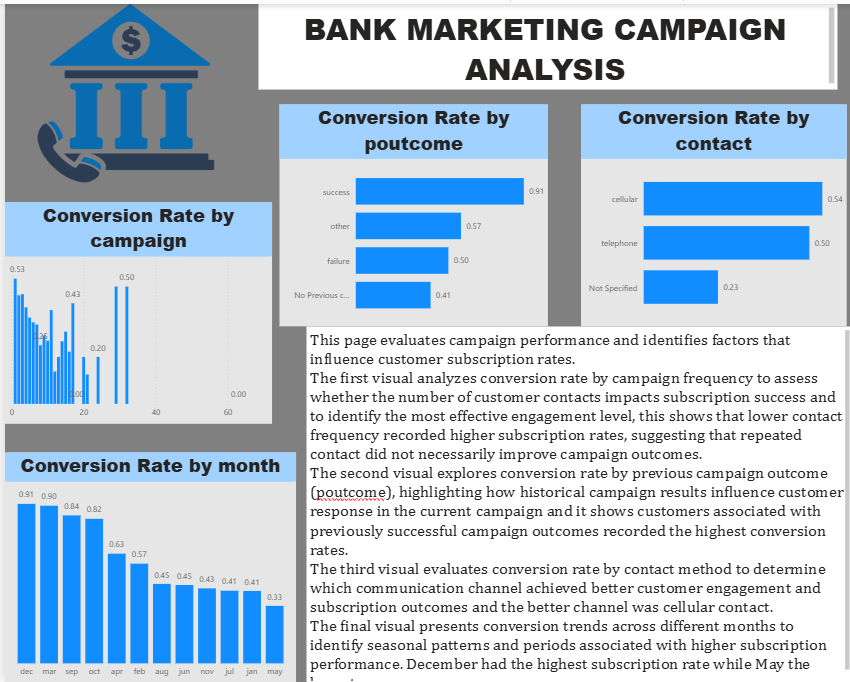

The page's visual inventory and layout, read from the dashboard file:
{"tool":"powerbi","page":{"name":"CAMPAIGN PERFORMANCE","canvas":[1250,1000],"ordinal":2},"visuals":[{"type":"textbox","box":[373.4,0,852.7,125.9],"z":0},{"type":"image","box":[0,0,355.7,262.9],"z":1000},{"type":"clusteredColumnChart","fields":{"Category":["bank_marketing_cleaned.campaign"],"Y":["bank_marketing_cleaned.Conversion Rate"]},"box":[0,291.6,393.2,327],"z":2000},{"type":"clusteredBarChart","fields":{"Category":["bank_marketing_cleaned.poutcome"],"Y":["bank_marketing_cleaned.Conversion Rate"]},"box":[404.3,148,395.4,327],"z":3000},{"type":"clusteredBarChart","fields":{"Category":["bank_marketing_cleaned.contact"],"Y":["bank_marketing_cleaned.Conversion Rate"]},"box":[848.3,148,391,327],"z":4000},{"type":"clusteredColumnChart","fields":{"Y":["bank_marketing_cleaned.Conversion Rate"],"Category":["bank_marketing_cleaned.month"]},"box":[0,660.5,428.6,340.2],"z":5000},{"type":"textbox","box":[444,475,806.4,525.8],"z":5001}]}

Visuals, with their boxes in screenshot pixels (x1, y1, x2, y2), scaled from the page's 1250x1000 canvas onto the 850x682 screenshot:
textbox: select_region(254, 0, 834, 86)
image: select_region(0, 0, 242, 179)
clusteredColumnChart - bank_marketing_cleaned.campaign x bank_marketing_cleaned.Conversion Rate: select_region(0, 199, 267, 422)
clusteredBarChart - bank_marketing_cleaned.poutcome x bank_marketing_cleaned.Conversion Rate: select_region(275, 101, 544, 324)
clusteredBarChart - bank_marketing_cleaned.contact x bank_marketing_cleaned.Conversion Rate: select_region(577, 101, 843, 324)
clusteredColumnChart - bank_marketing_cleaned.Conversion Rate x bank_marketing_cleaned.month: select_region(0, 450, 291, 681)
textbox: select_region(302, 324, 849, 681)
